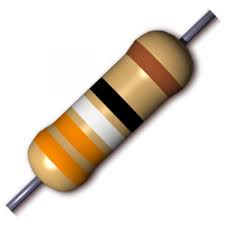resistor: (19, 23, 209, 201)
